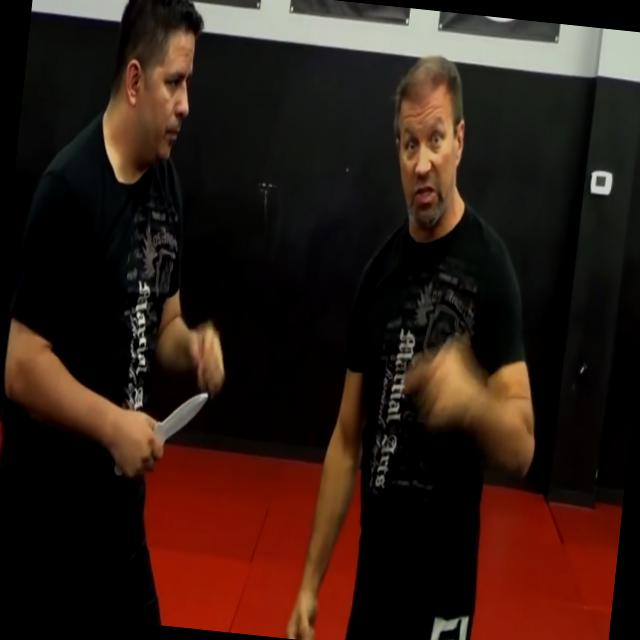knife: (108, 375, 212, 489)
